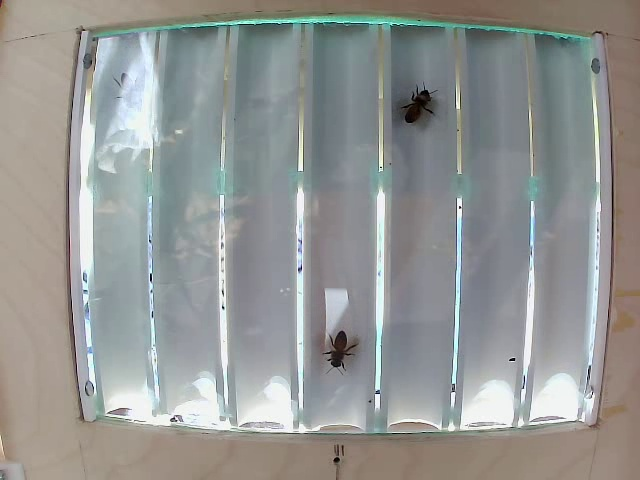bee: (400, 76, 442, 139), (319, 323, 363, 367)
